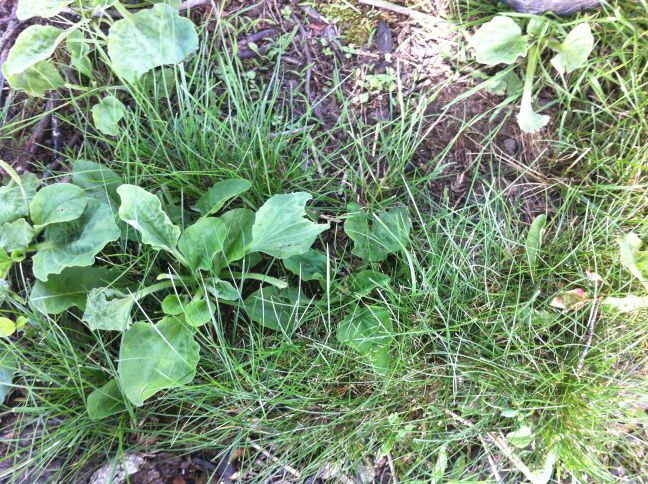weed1: (49, 152, 390, 416), (1, 154, 122, 360), (1, 1, 225, 87), (460, 1, 600, 136)
